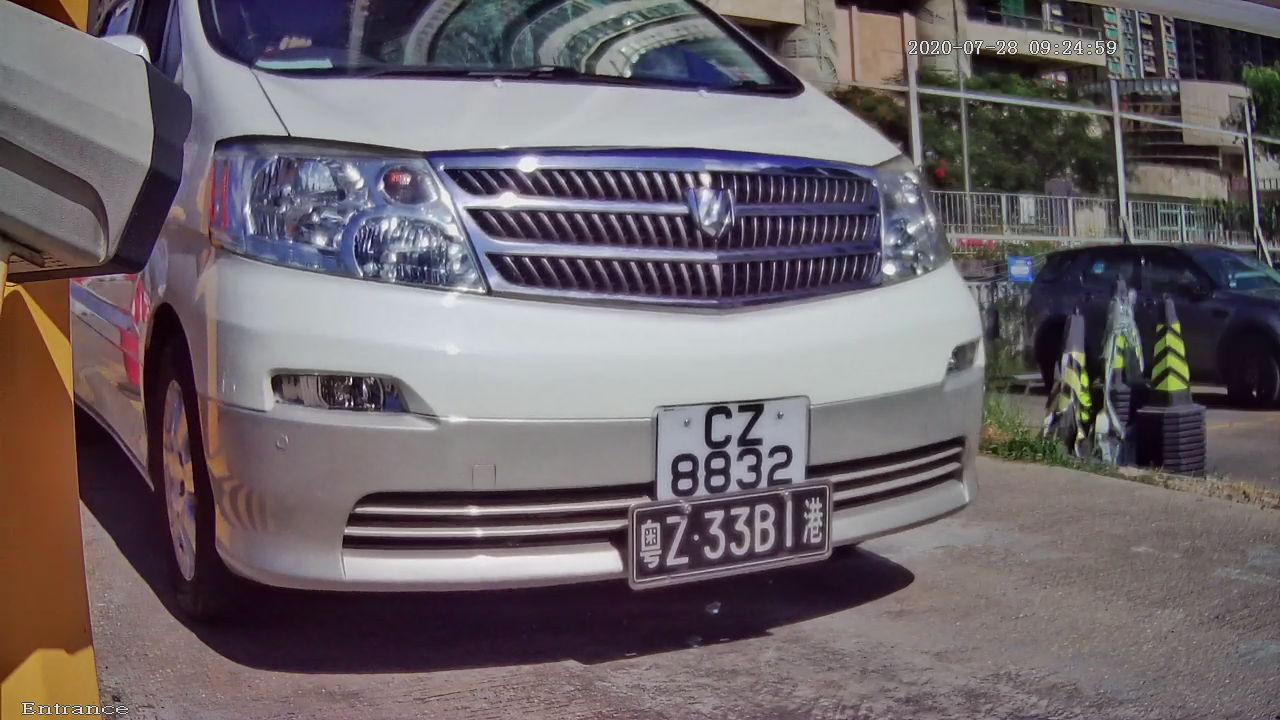privatecar: (46, 13, 1109, 672)
